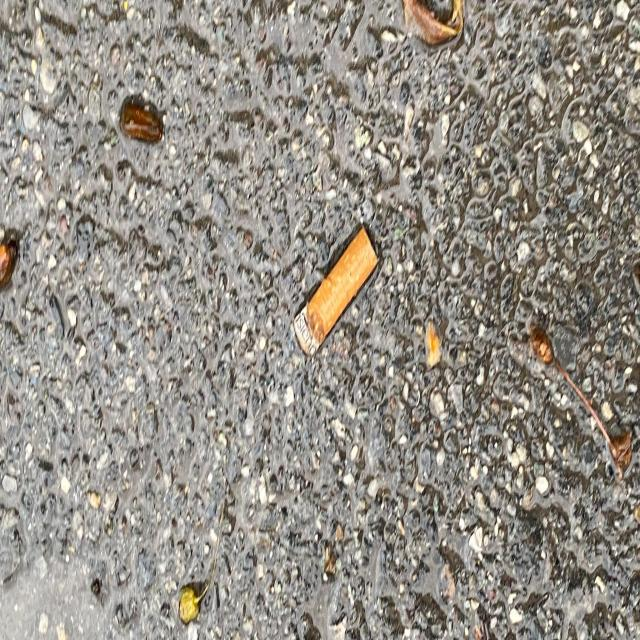other waste: (292, 222, 379, 359)
